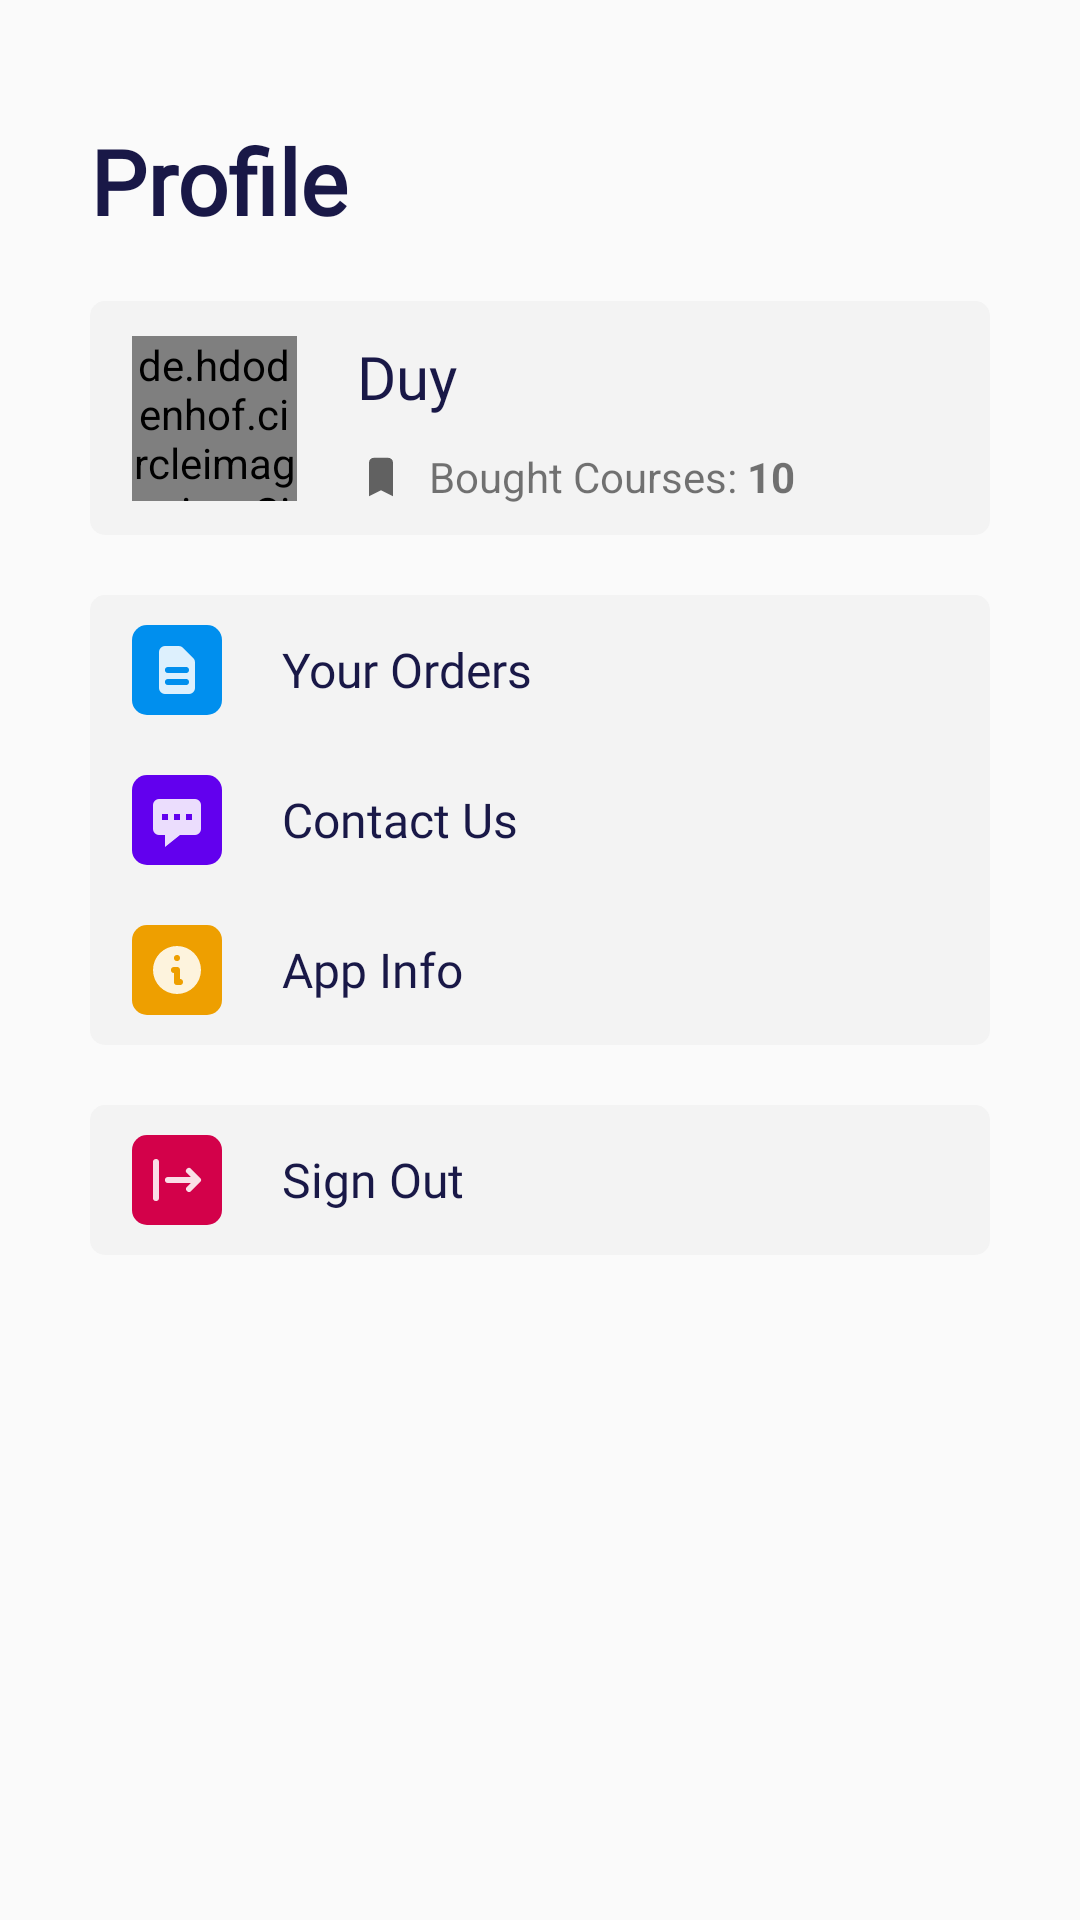

Icon bounding boxes for this 1080 x 1920 phone screenshot, format [x1=x1, y1=y1, x2=x2, y2=y2]:
bookmark: [x1=369, y1=457, x2=393, y2=496]
document: [x1=132, y1=625, x2=222, y2=715]
